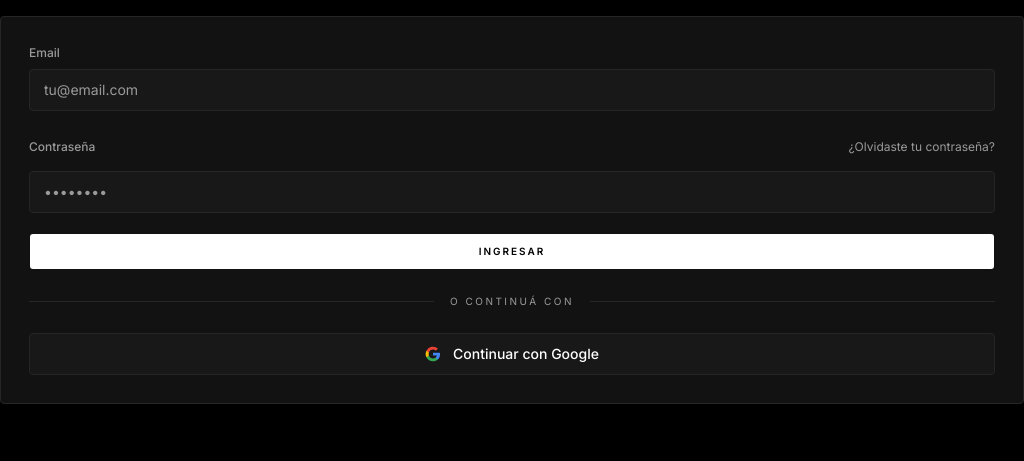
Test: LoginForm › shows a generic error on bad credentials
The width and height of the screenshot is (1024, 461).
Type "ana@test.move" into the field labelled "Email" at (512, 90), box [29, 69, 995, 111]
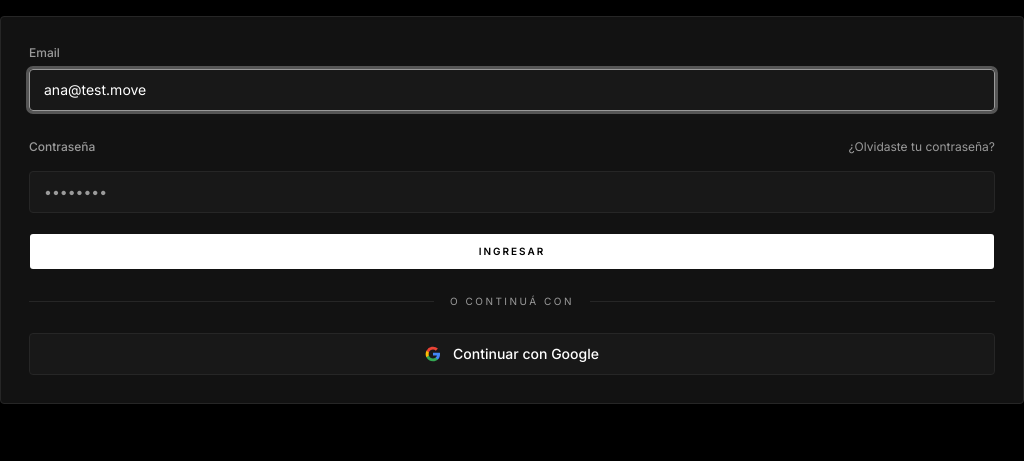
Type "mala" into the password field labelled "Contraseña" at (512, 192), box [29, 171, 995, 213]
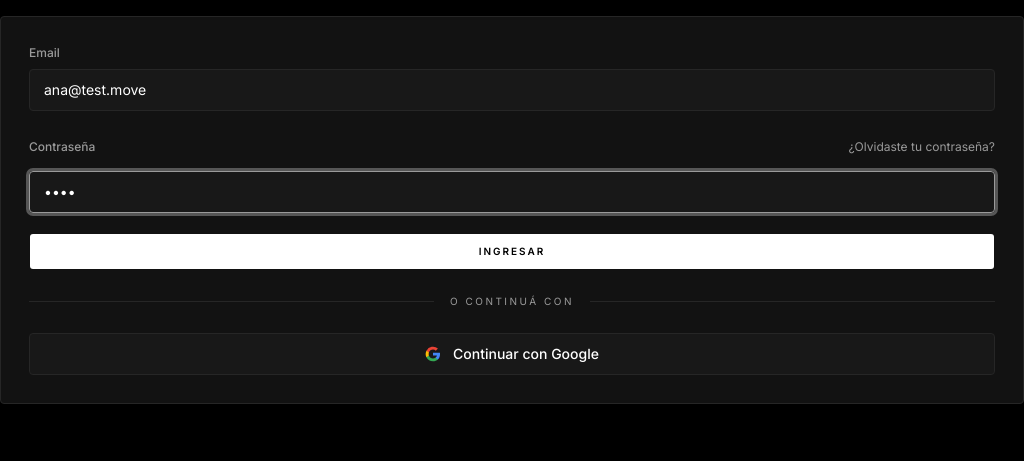
Click the button "Ingresar" at (512, 252), box [29, 233, 995, 270]
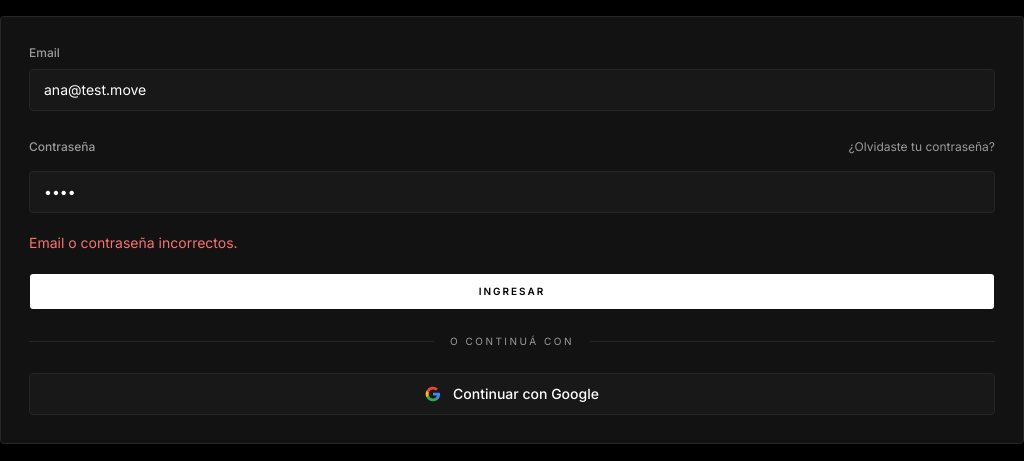
Expected: the text "Email o contraseña incorrectos." is shown, [29, 234, 238, 251]
